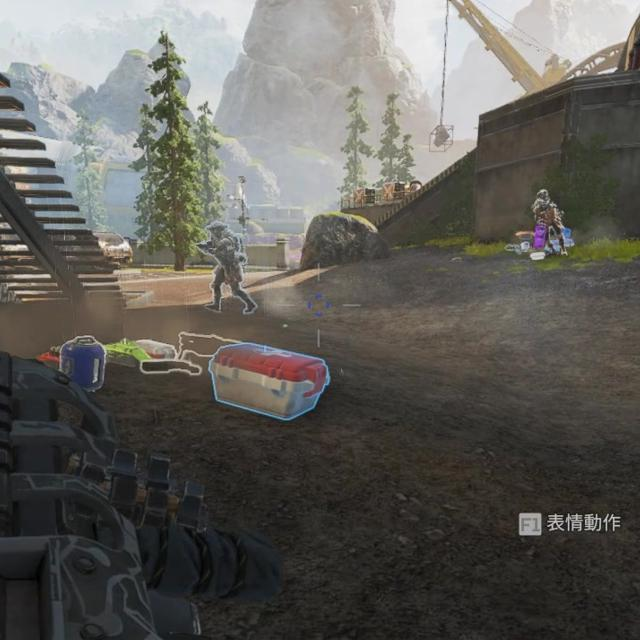avatar: (192, 221, 260, 317), (531, 188, 570, 258)
